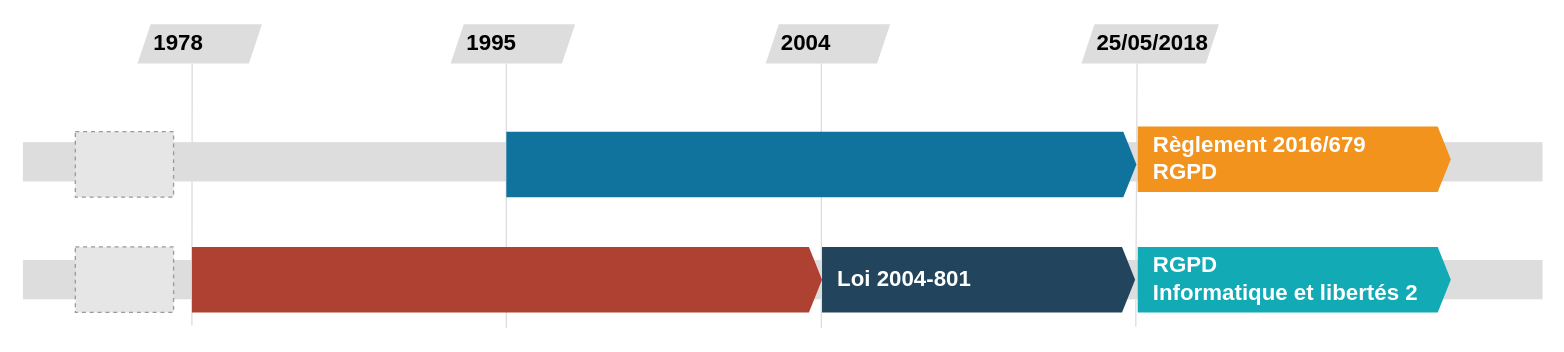
This 1564x352 diagram has some shape labels left out. Grey dashed boxes stand in for pictures. The shapes that lost their labels are listed below. From the top down, each one's centre as x and y in pixels, then its label:
the point at 821,163: Directive 95/46/CE - G29
the point at 506,279: Loi n°78-17 Informatique et Libertés - CNIL
